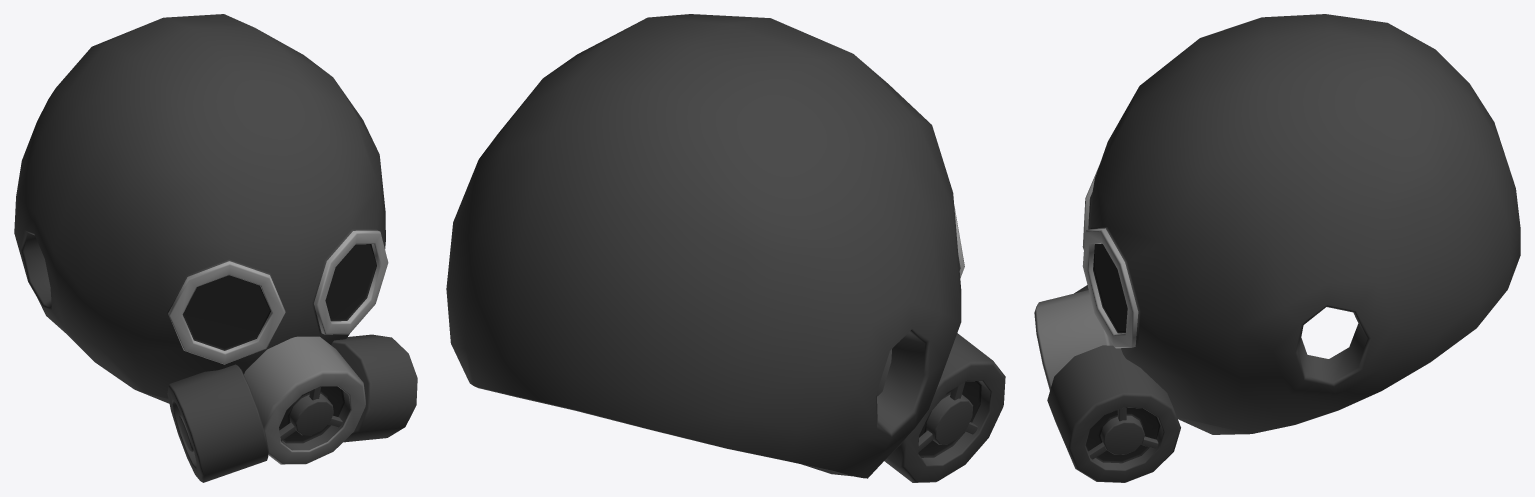
Rendered from Hat_083.glb.
3 views of the same model, side by side, from view 1: azimuth 30°, elevation 25°; view 2: azimuth 150°, elevation 25°; view 3: azimuth 270°, elevation 25° (orthographic). The views are drawn at different scales.
Visible parts, largest first — view 1: Hat_083; view 2: Hat_083; view 3: Hat_083.
Part boxes in pixels (box(x1,y1,x2,y2)): Hat_083: box(14, 14, 417, 482); Hat_083: box(446, 14, 1005, 482); Hat_083: box(1034, 14, 1520, 482).
Size of the model in its own units: 0.4545 by 0.4924 by 0.5369.
Materials: 1 (1 with a texture image).
